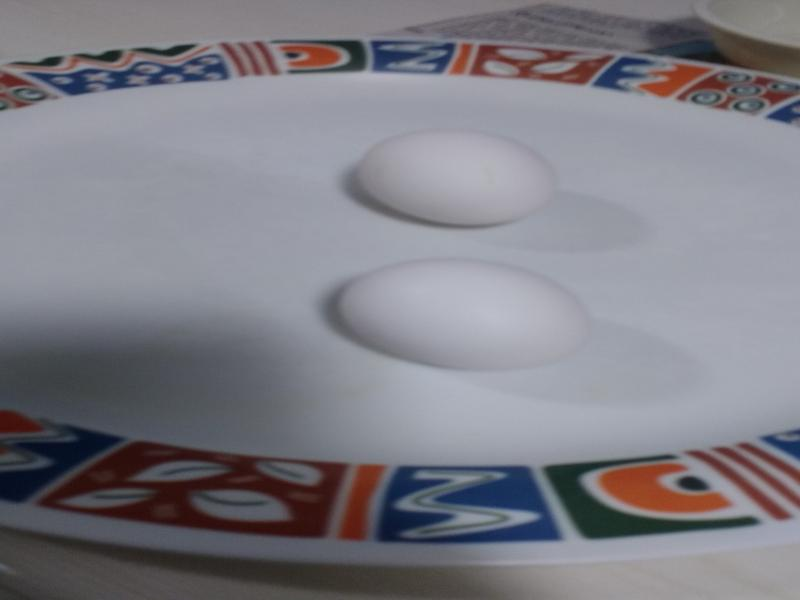egg: (336, 259, 587, 369)
